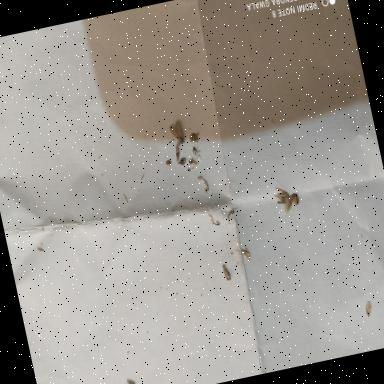abw: (166, 118, 186, 146)
